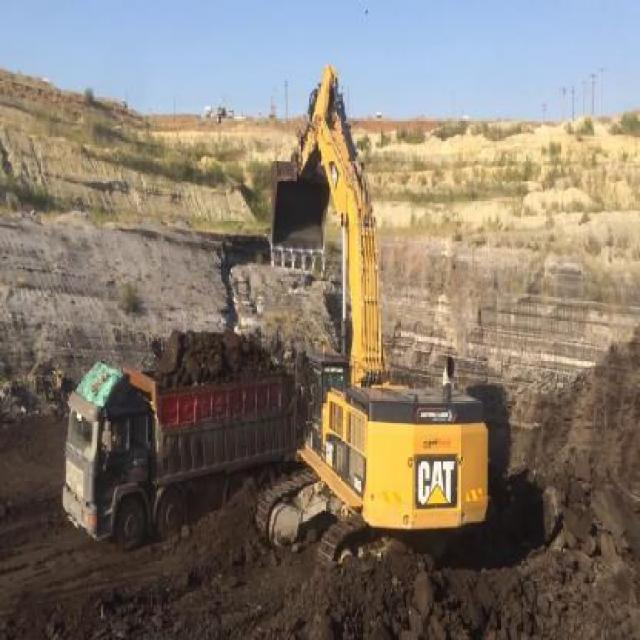Dump Truck: (59, 319, 301, 555)
Excavator: (257, 66, 492, 583)
